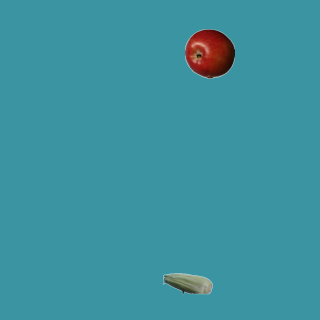Apple Braeburn: (184, 28, 234, 78)
Corn Husk: (162, 258, 212, 308)
